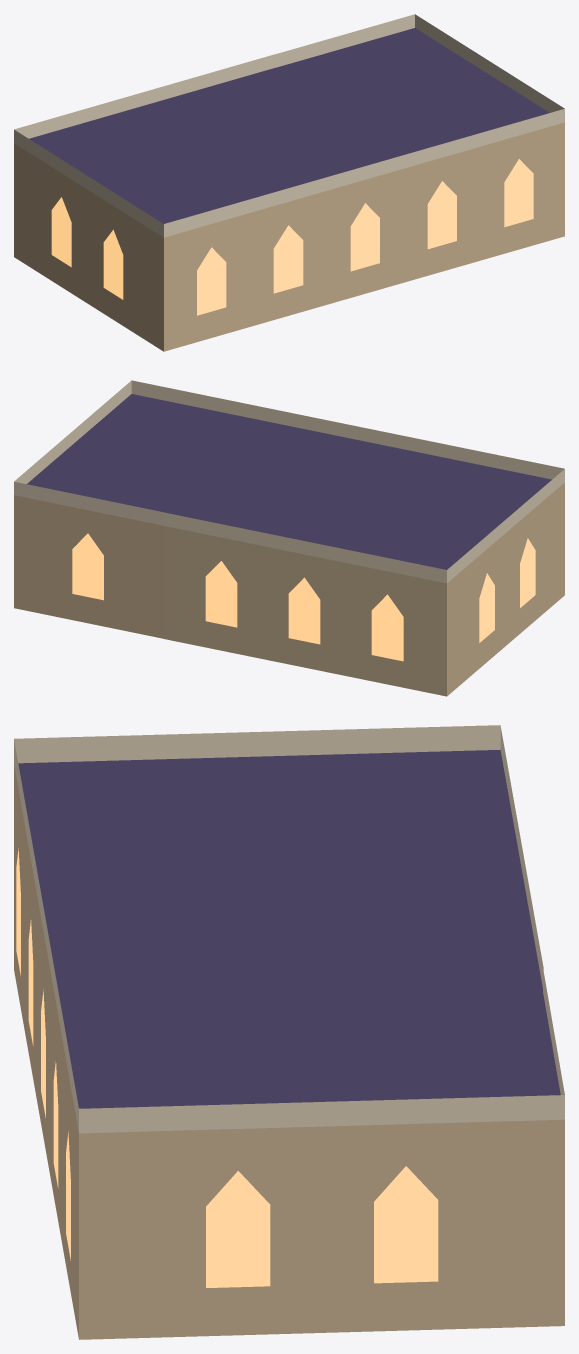
The picture shows the model from 3 angles, top to bottom: view 1: azimuth 30°, elevation 25°; view 2: azimuth 150°, elevation 25°; view 3: azimuth 270°, elevation 25°; orthographic projection. The views are drawn at different scales.
Parts seen in each view (by area): view 1: campus/b-125-0; view 2: campus/b-125-0; view 3: campus/b-125-0.
Part boxes in pixels (box(x1,y1,x2,y2)): campus/b-125-0: box(14, 14, 564, 351); campus/b-125-0: box(14, 380, 564, 696); campus/b-125-0: box(14, 725, 564, 1339).
Size of the model in its own units: 18.34 by 5.15 by 11.13.
